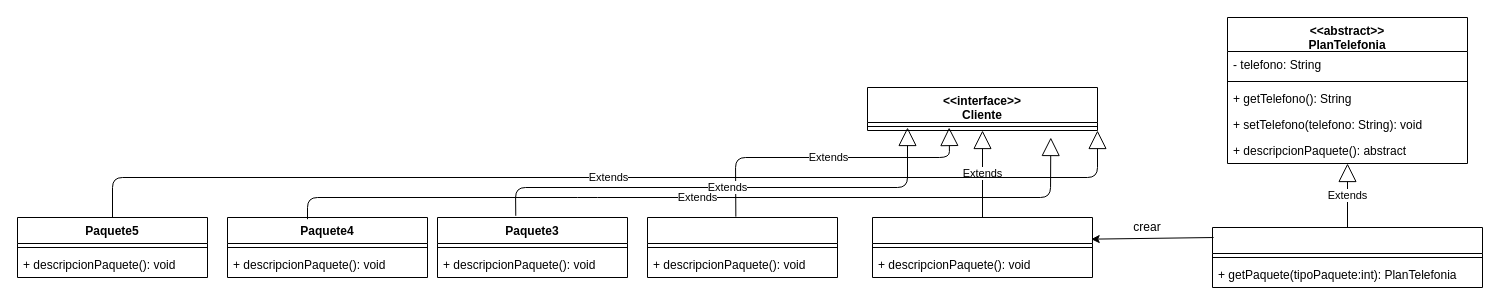
Image size: 1500x308. Some labels were removed from this diagram. Here are the shapes that lost their labels. From the top down, the box of each, then its label:
(646, 216, 838, 278): Paquete2
(872, 216, 1092, 278): Paquete1
(1212, 226, 1482, 288): PlanTelefoniaFactory
